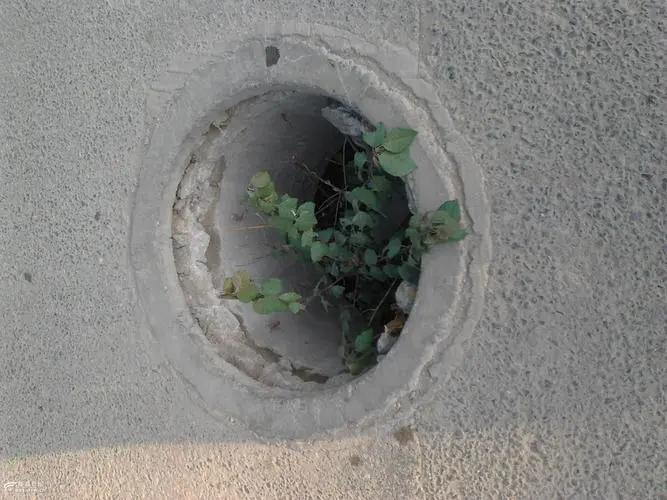wellcover: (119, 76, 492, 408)
